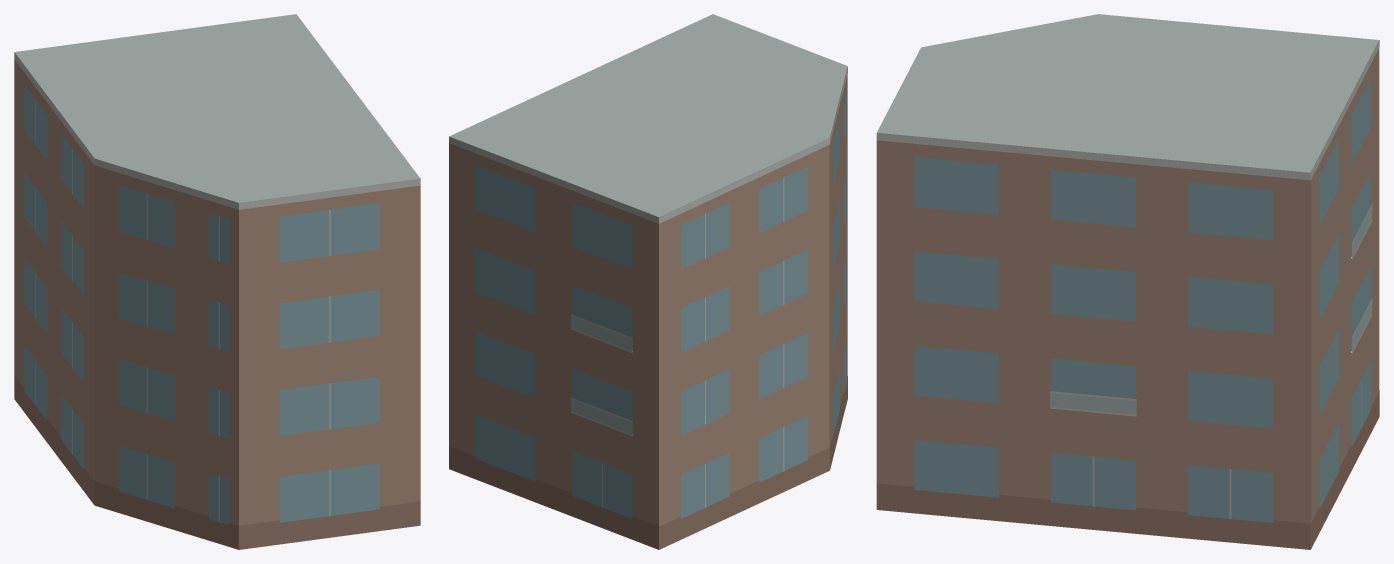
File: residential-ada15af8-2479-467b-b429-e43dd9d497c5.glb
3 renders of one model, left to right at view 1: azimuth 30°, elevation 25°; view 2: azimuth 150°, elevation 25°; view 3: azimuth 270°, elevation 25°, orthographic. The views are drawn at different scales.
Parts seen in each view (by area): view 1: residential-ada15af8-2479-467b-b429-e43dd9d497c5.tmp; view 2: residential-ada15af8-2479-467b-b429-e43dd9d497c5.tmp; view 3: residential-ada15af8-2479-467b-b429-e43dd9d497c5.tmp.
Boxes of the visible parts, box(x1,y1,x2,y2) form: residential-ada15af8-2479-467b-b429-e43dd9d497c5.tmp: box(14, 14, 420, 549); residential-ada15af8-2479-467b-b429-e43dd9d497c5.tmp: box(449, 14, 847, 549); residential-ada15af8-2479-467b-b429-e43dd9d497c5.tmp: box(876, 14, 1379, 549).
Size of the model in its own units: 11.03 by 12.2 by 14.75.
